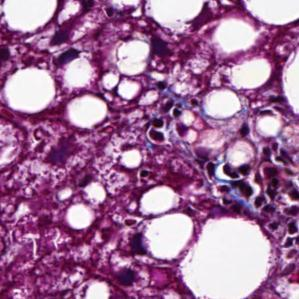inflammation: (203, 156, 299, 219), (139, 97, 196, 146)
